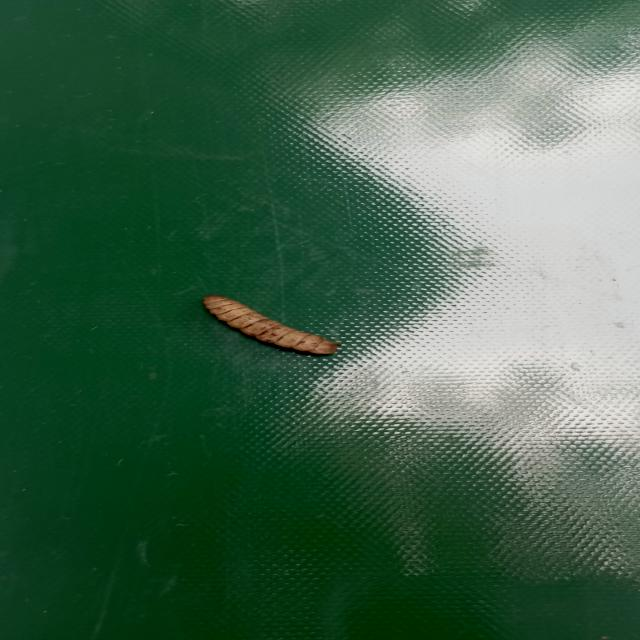Maggot: (202, 295, 338, 358)
